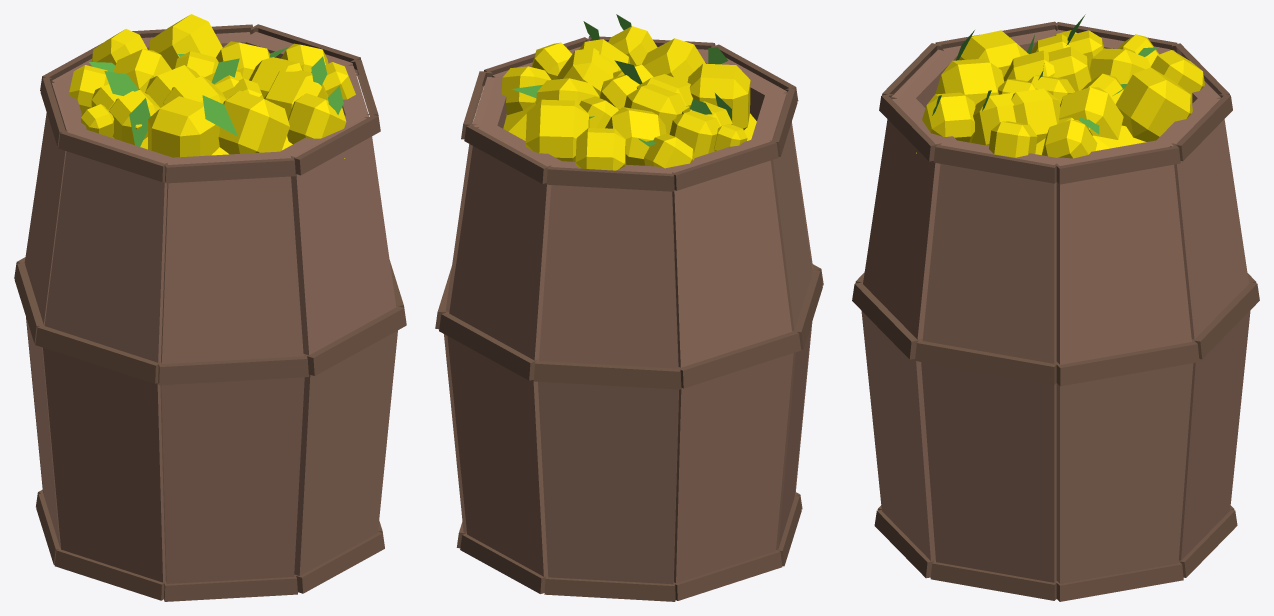
File: barrel-fruit-03.obj
The picture shows the model from 3 angles, left to right: view 1: azimuth 30°, elevation 25°; view 2: azimuth 150°, elevation 25°; view 3: azimuth 270°, elevation 25°; orthographic projection. The views are drawn at different scales.
Parts seen in each view (by area): view 1: barrel-fruit-03; view 2: barrel-fruit-03; view 3: barrel-fruit-03.
Boxes of the visible parts, x1=… form: barrel-fruit-03: x1=14, y1=14, x2=406, y2=601; barrel-fruit-03: x1=435, y1=14, x2=823, y2=601; barrel-fruit-03: x1=852, y1=14, x2=1259, y2=601.
Size of the model in its own units: 0.4474 by 0.5752 by 0.4485.
